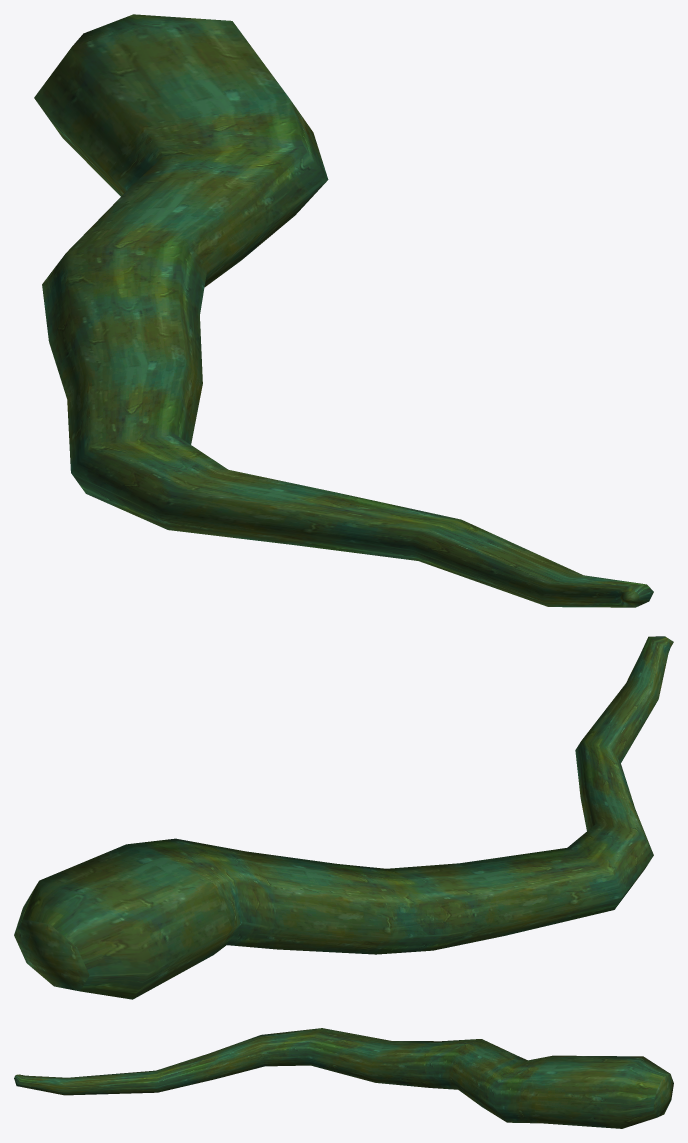
The model's file is INST_MIRK_BIGTREE_BRANCHA.fbx.
The picture shows the model from 3 angles, top to bottom: view 1: azimuth 30°, elevation 25°; view 2: azimuth 150°, elevation 25°; view 3: azimuth 270°, elevation 25°; orthographic projection. The views are drawn at different scales.
Parts seen in each view (by area): view 1: INST_MIRK_BIGTREE_BRANCHA; view 2: INST_MIRK_BIGTREE_BRANCHA; view 3: INST_MIRK_BIGTREE_BRANCHA.
Boxes of the visible parts, bbox=[...] form: INST_MIRK_BIGTREE_BRANCHA: bbox=[34, 14, 653, 607]; INST_MIRK_BIGTREE_BRANCHA: bbox=[14, 636, 673, 999]; INST_MIRK_BIGTREE_BRANCHA: bbox=[14, 1028, 673, 1128].
Size of the model in its own units: 131524 by 41273 by 312312.
Materials: 1 (1 with a texture image).
